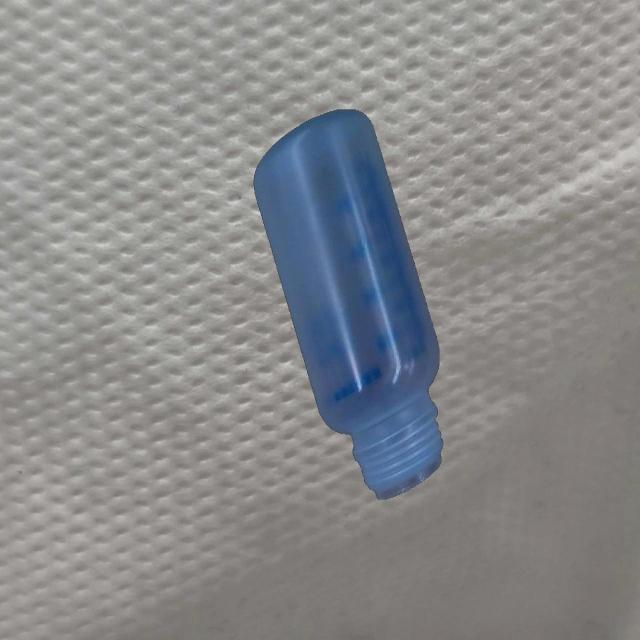bottle: (251, 105, 447, 504)
